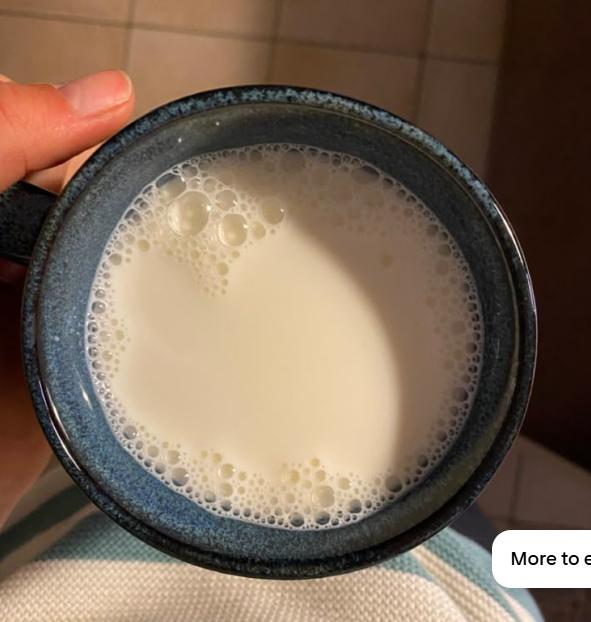produk_susu: (97, 145, 475, 544)
